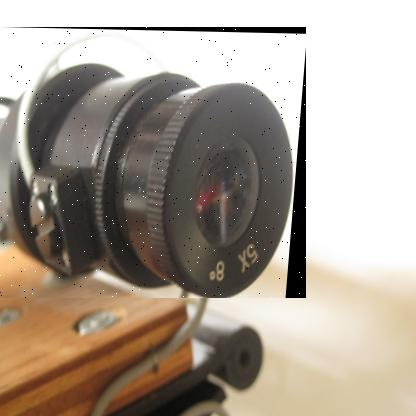Camera: (1, 28, 308, 300)
